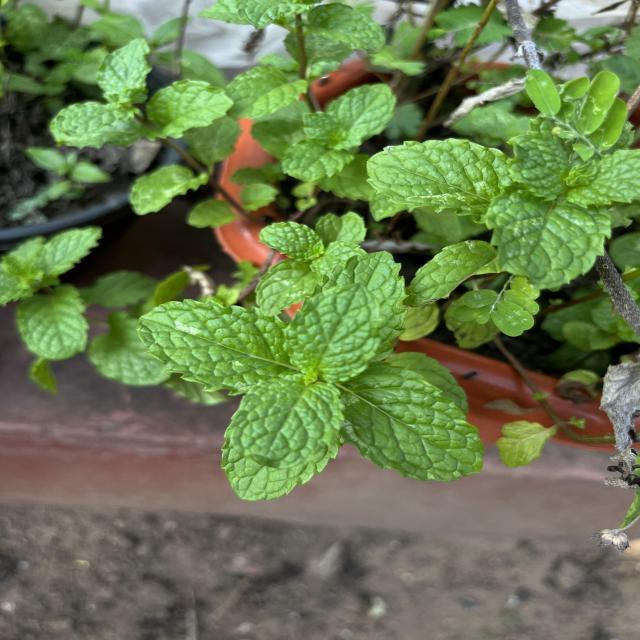Mentha spicata: (339, 360, 486, 483), (220, 372, 345, 502), (136, 296, 290, 397), (364, 137, 514, 225), (284, 280, 384, 384)
